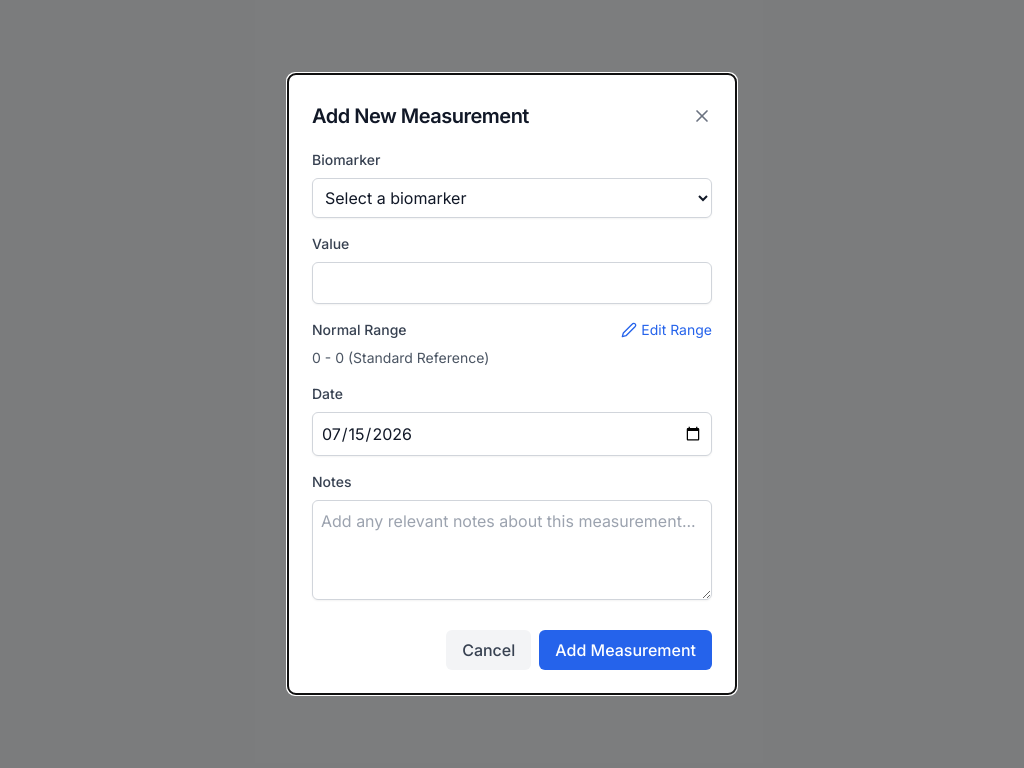
Test case: AddMeasurementModal › Normal Range Editing › should toggle range editing when edit button is clicked
Select a biomarker
Select "Glucose" in the dropdown at (512, 198), box [312,178,712,218]
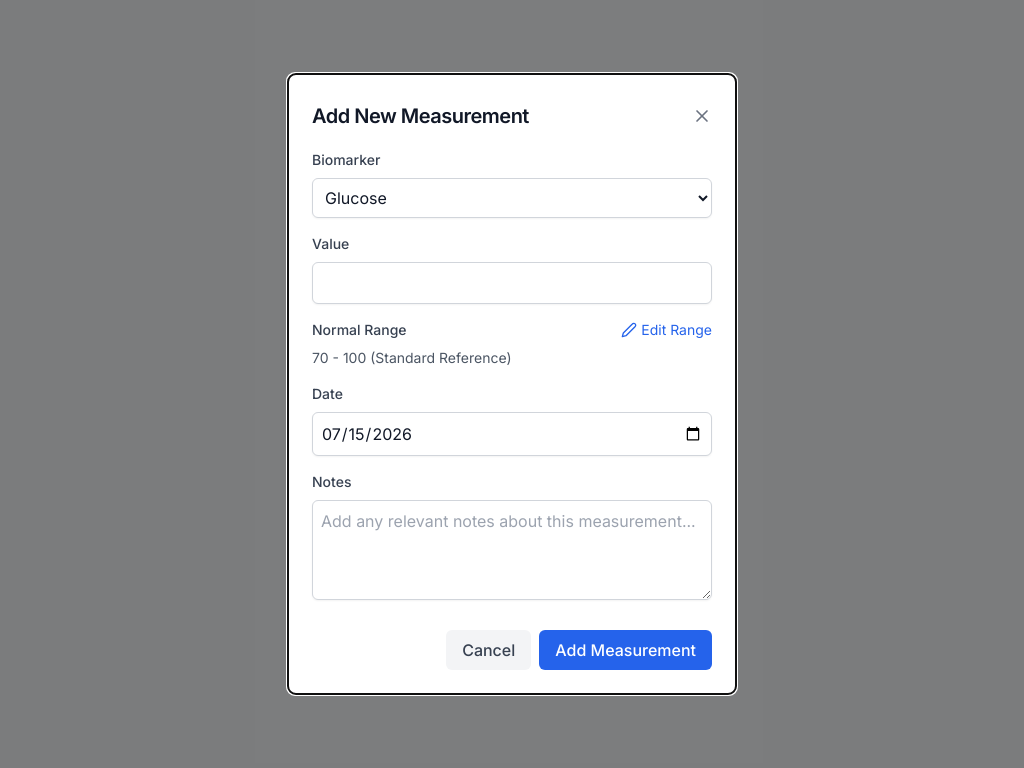
Click edit range
Click the button "Edit Range" at (667, 330), box [621,320,712,340]
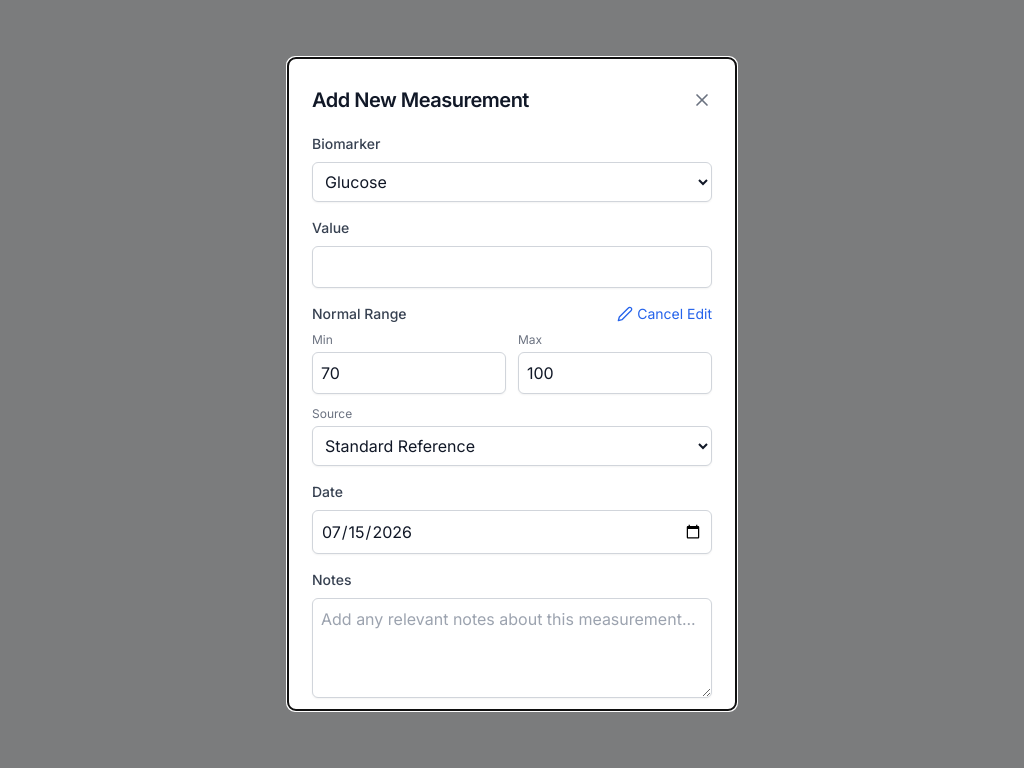
Expected: the text "Min" is shown, [312,332,333,347]
Expected: the text "Max" is shown, [518,332,542,347]
